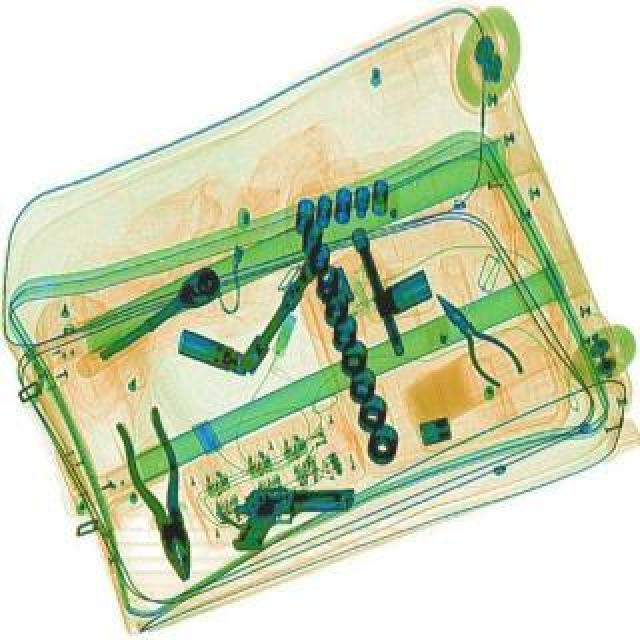gun: (232, 486, 358, 552)
wrench: (110, 404, 214, 584), (416, 278, 528, 392)
